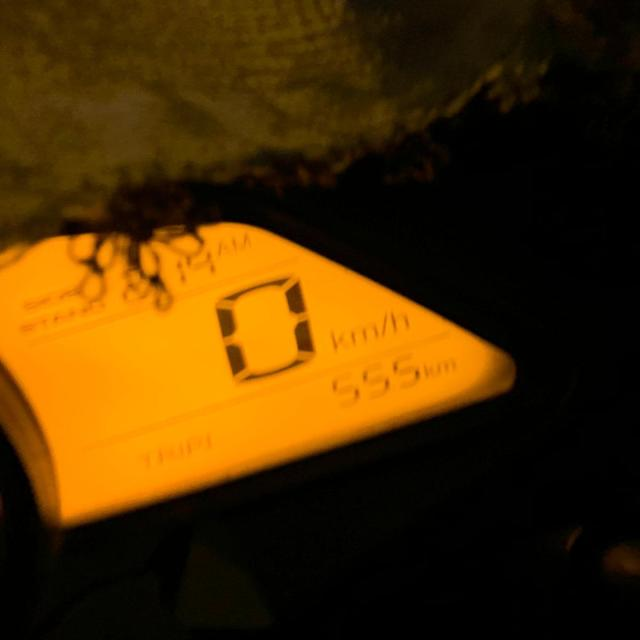odometer: (5, 217, 528, 530)
